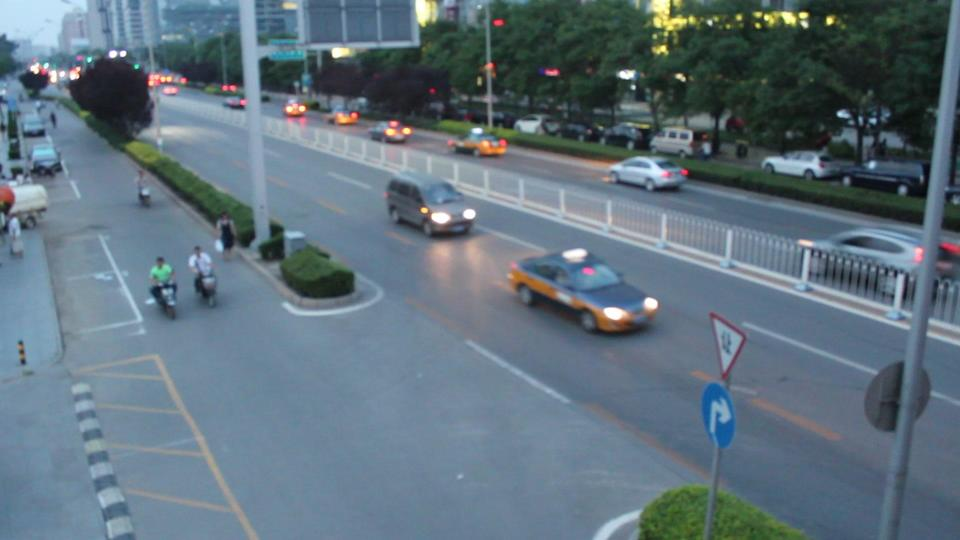bicycle: (196, 275, 218, 308)
car: (506, 247, 660, 335), (796, 227, 960, 282), (383, 168, 479, 237), (841, 159, 929, 197), (759, 150, 855, 182), (606, 157, 689, 191), (2, 181, 49, 229), (447, 130, 509, 157), (650, 127, 699, 158), (27, 139, 62, 176), (369, 120, 414, 144), (328, 110, 362, 126), (223, 96, 248, 110), (161, 84, 179, 96)
person: (148, 258, 177, 314), (188, 245, 217, 300), (258, 219, 287, 261), (216, 212, 238, 261), (2, 212, 24, 258), (135, 168, 154, 208)
